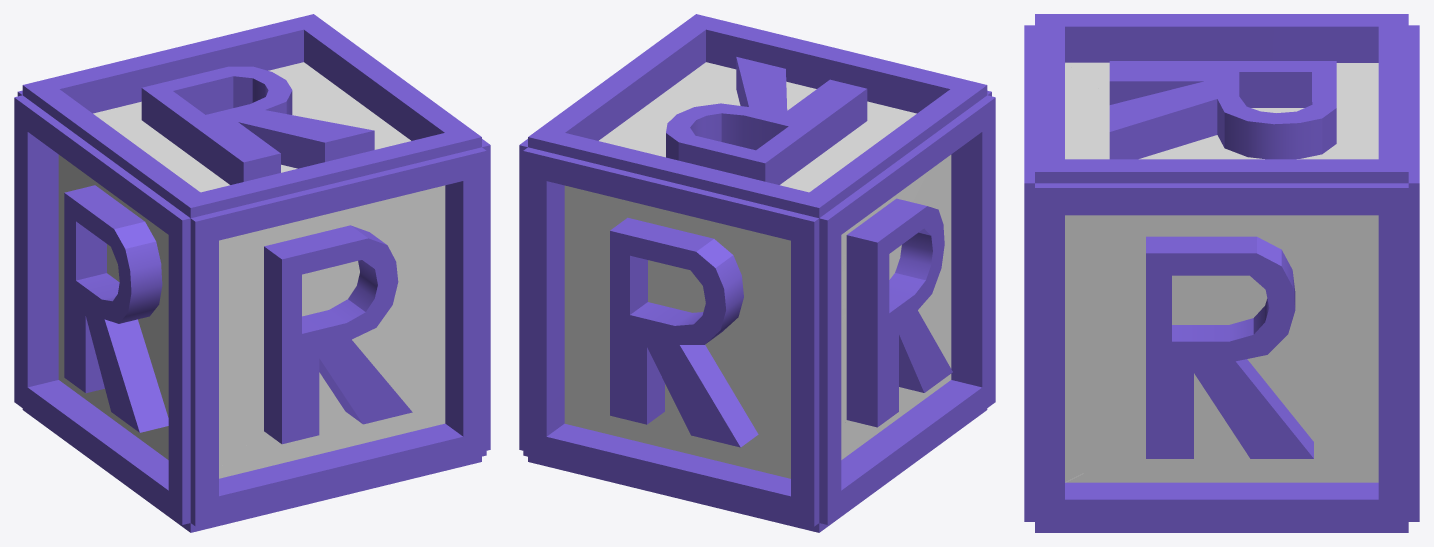
Rendered from R_Block.fbx.
The picture shows the model from 3 angles, left to right: view 1: azimuth 30°, elevation 25°; view 2: azimuth 150°, elevation 25°; view 3: azimuth 270°, elevation 25°; orthographic projection. The views are drawn at different scales.
Visible parts, largest first — view 1: pCube15, pCube15.001; view 2: pCube15, pCube15.001; view 3: pCube15, pCube15.001.
Boxes of the visible parts, box(x1,y1,x2,y2) form: pCube15: box(14, 14, 490, 532); pCube15.001: box(58, 62, 445, 478); pCube15: box(519, 14, 995, 532); pCube15.001: box(564, 62, 951, 478); pCube15: box(1024, 14, 1419, 532); pCube15.001: box(1065, 62, 1378, 482).
Bounding box in the file's own units: 52.99 × 53.32 × 52.87.
